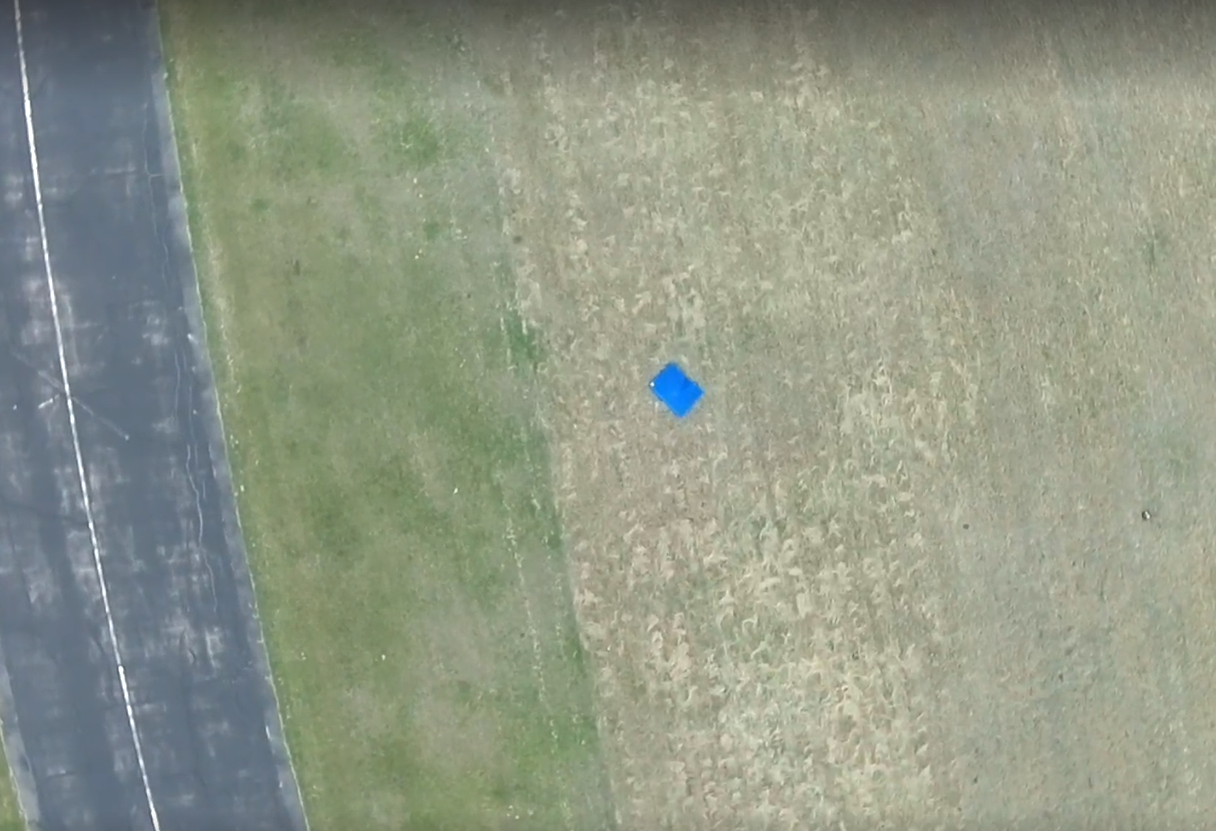TOI: (647, 360, 705, 419)
